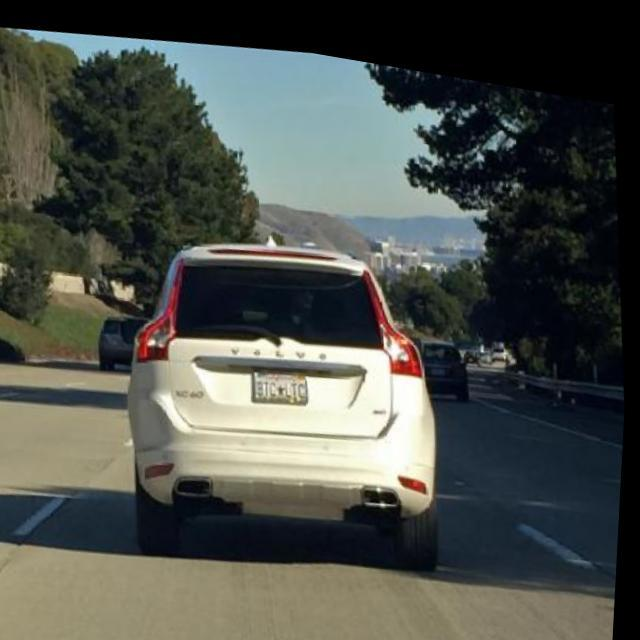license_plate: (250, 350, 314, 400), (432, 348, 448, 360)
